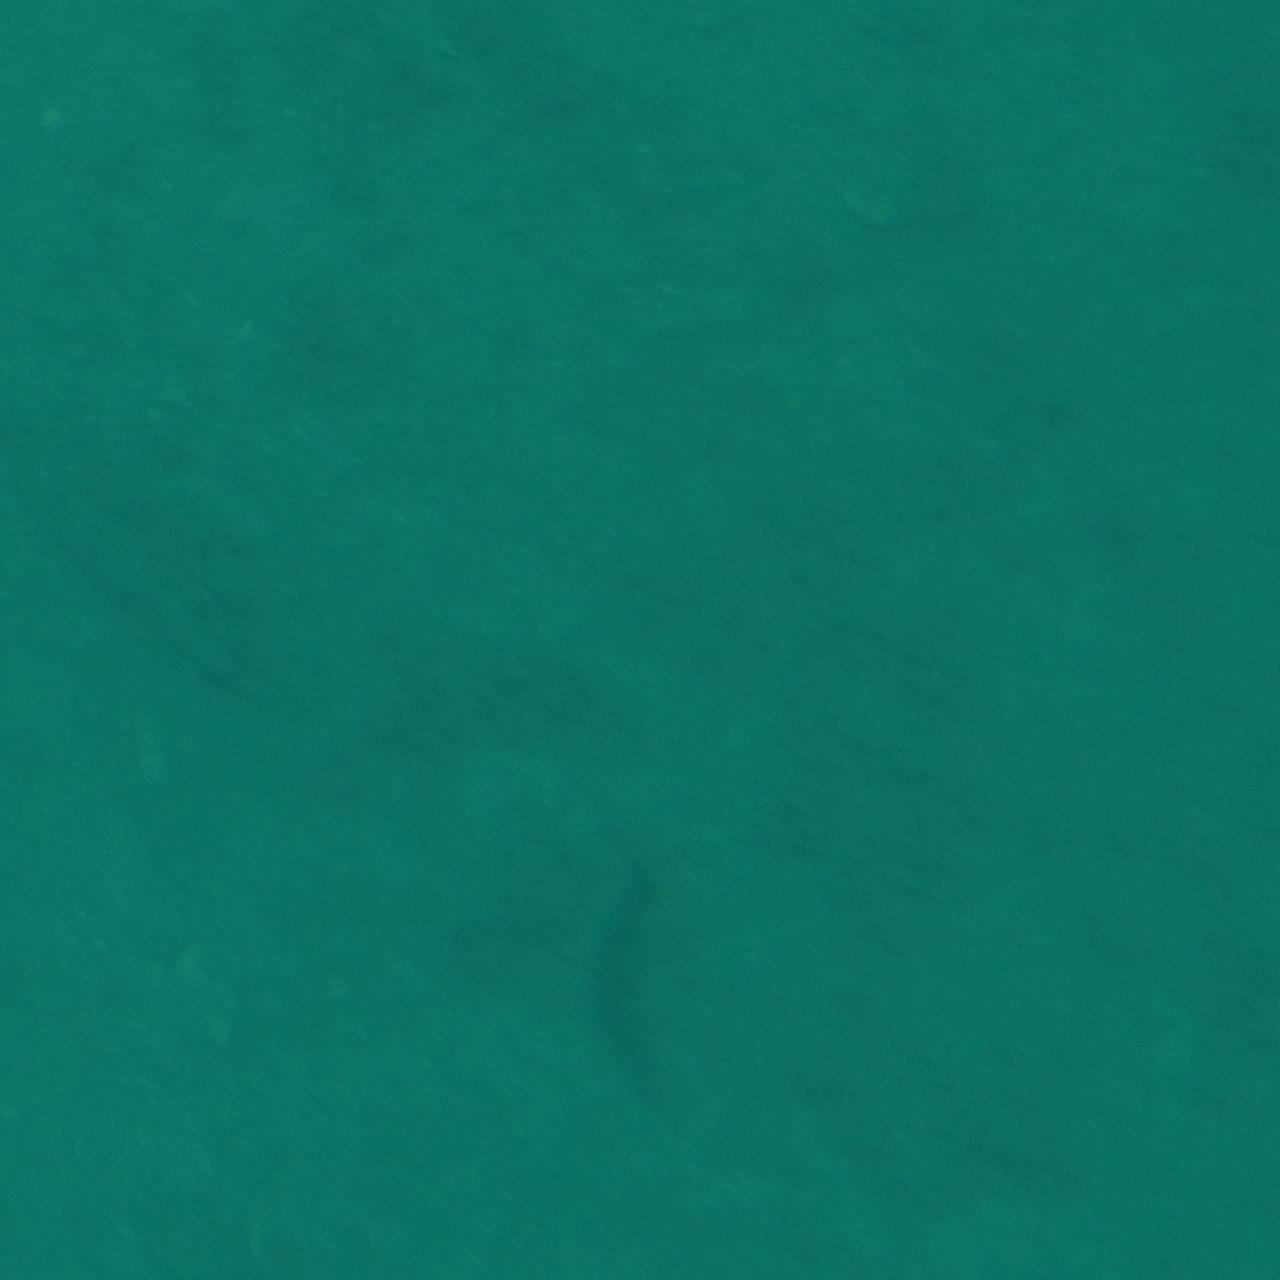Holothuria tubulosa: (579, 821, 701, 1160)
